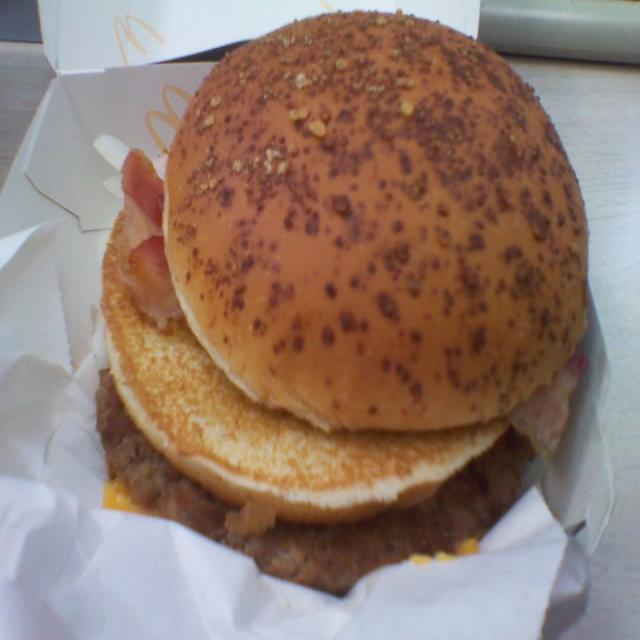Hamburger: (76, 0, 614, 608)
